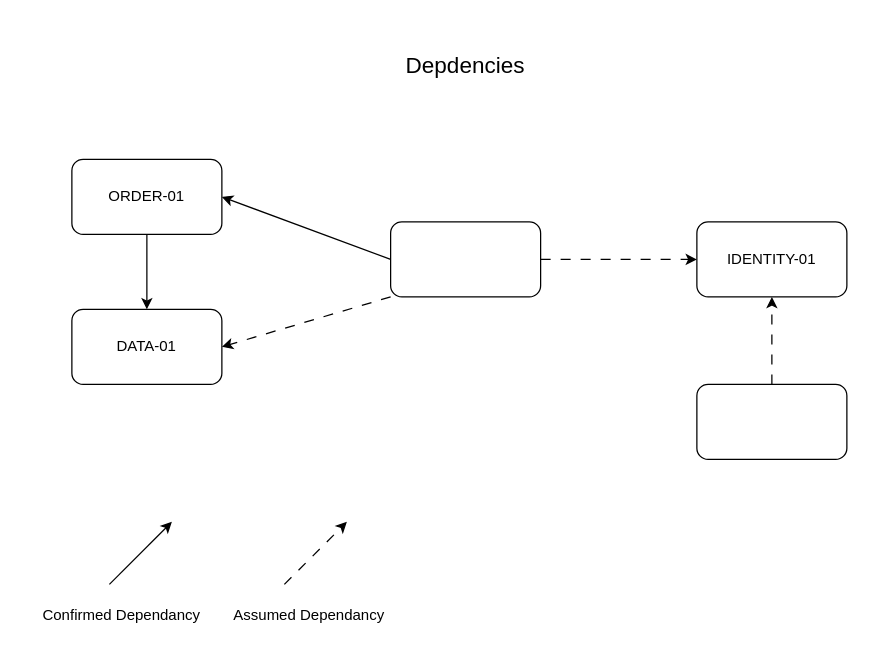
This 869x655 diagram has some shape labels left out. The centre of each missing label's shape, as x and y in pixels:
"PORTAL-01" belongs at [465,259].
"SHARE-01" belongs at [771,421].
